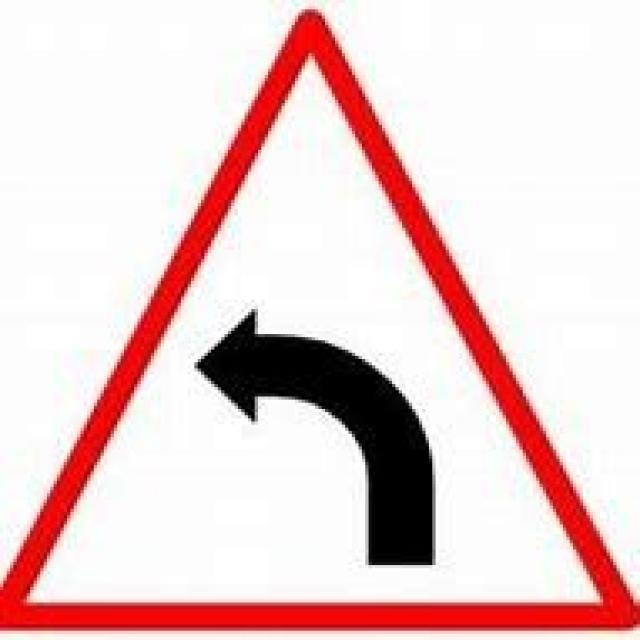left hand curve: (18, 15, 630, 631)
